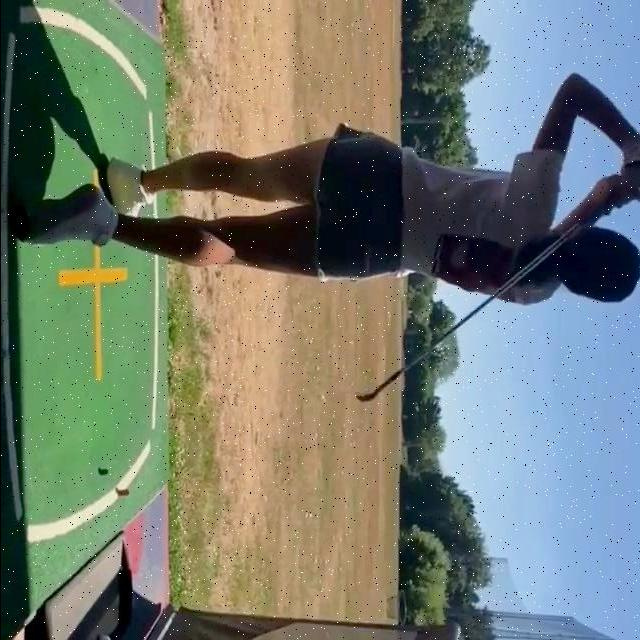golf club-handle: (356, 206, 604, 403)
golf club-head: (355, 392, 374, 403)
